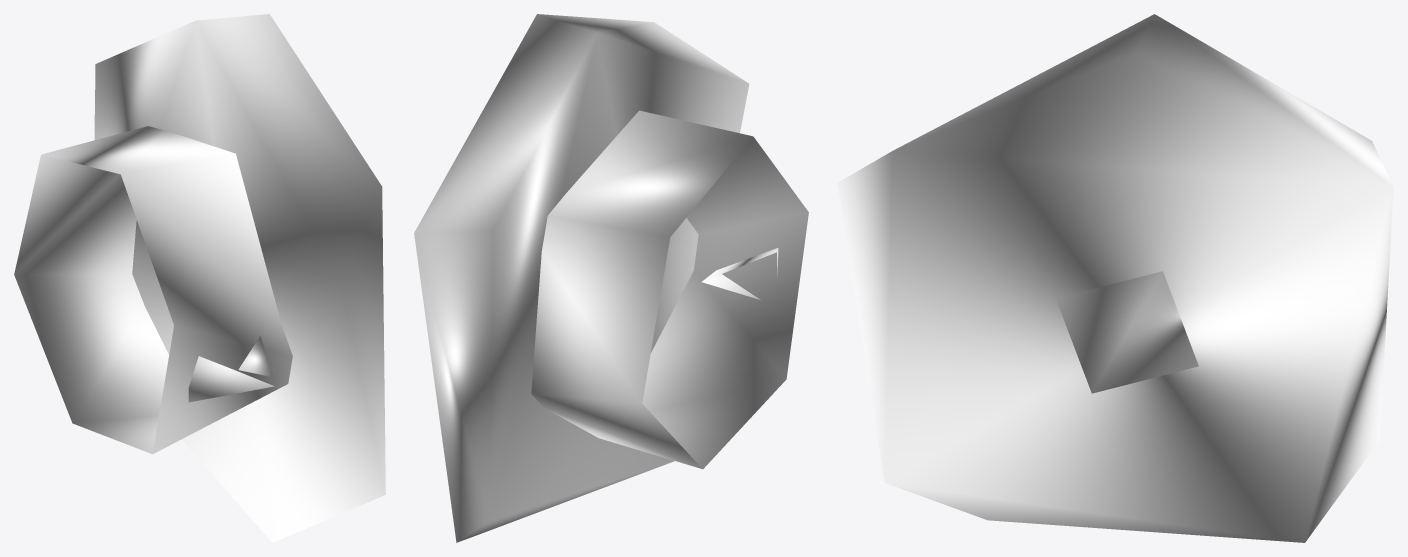
The picture shows the model from 3 angles, left to right: view 1: azimuth 30°, elevation 25°; view 2: azimuth 150°, elevation 25°; view 3: azimuth 270°, elevation 25°; orthographic projection. The views are drawn at different scales.
Size of the model in its own units: 0.1579 by 0.3303 by 0.3288.
Materials: 1 (1 with a texture image).
